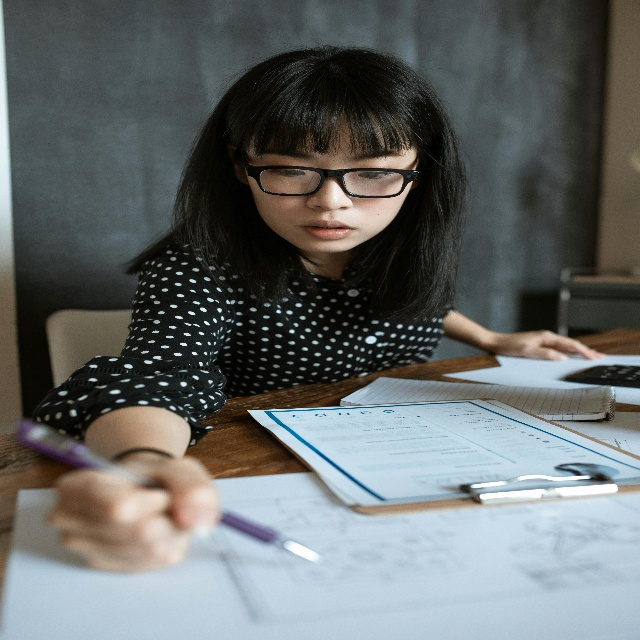Gafas: (238, 147, 419, 199)
Sin_guantes: (45, 450, 218, 572), (496, 330, 603, 361)
